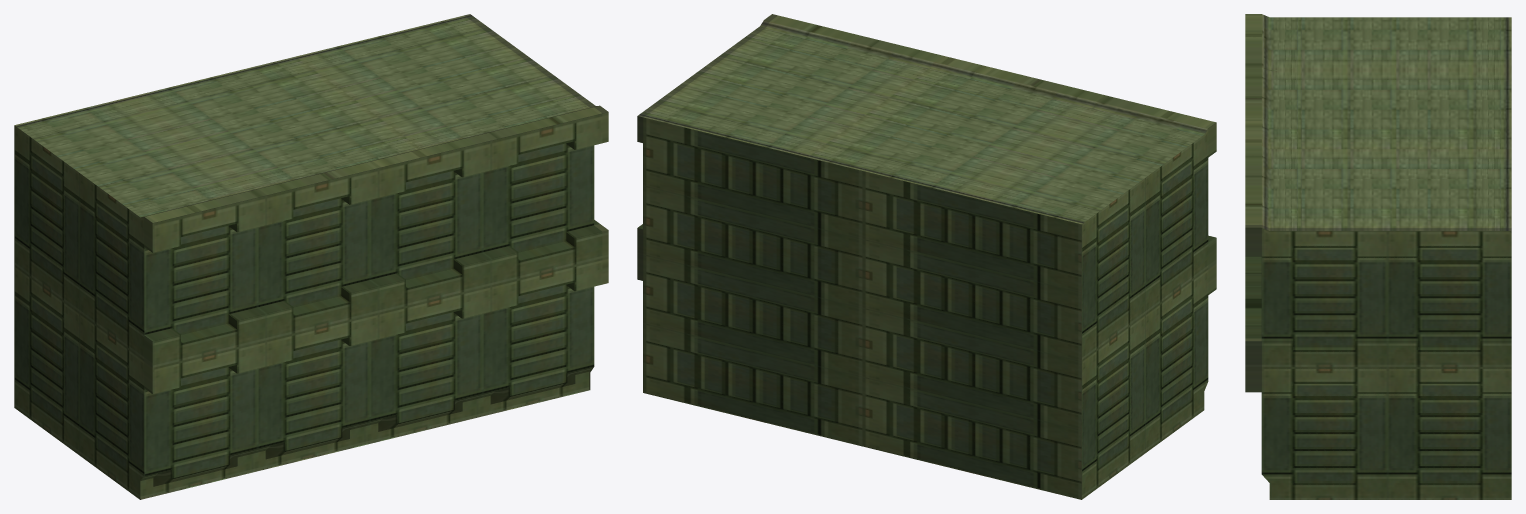
File: ground_01blend.fbx
3 views of the same model, side by side, from view 1: azimuth 30°, elevation 25°; view 2: azimuth 150°, elevation 25°; view 3: azimuth 270°, elevation 25° (orthographic). The views are drawn at different scales.
Parts seen in each view (by area): view 1: Cube; view 2: Cube; view 3: Cube.
Boxes of the visible parts, <box> form: Cube: <box>14,14,608,499</box>; Cube: <box>637,14,1216,499</box>; Cube: <box>1245,14,1511,499</box>.
Bounding box in the file's own units: 4051 × 2429 × 2130.
1 material, 1 textured.
